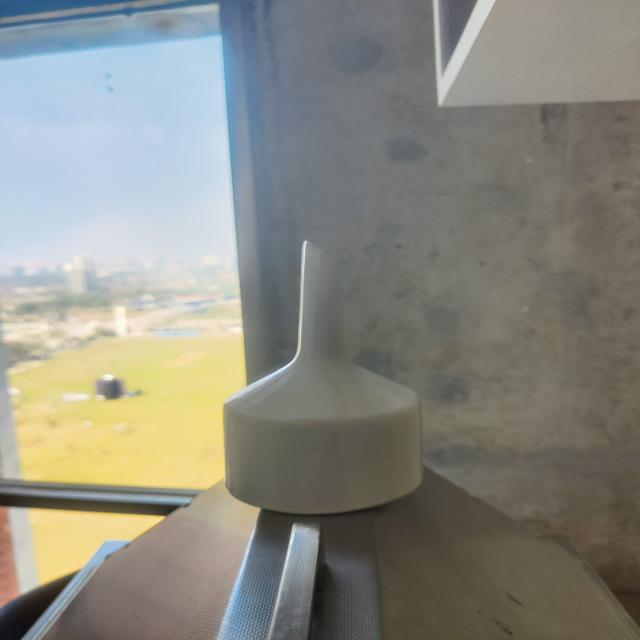Buchner_Funnel: (160, 220, 492, 542)
